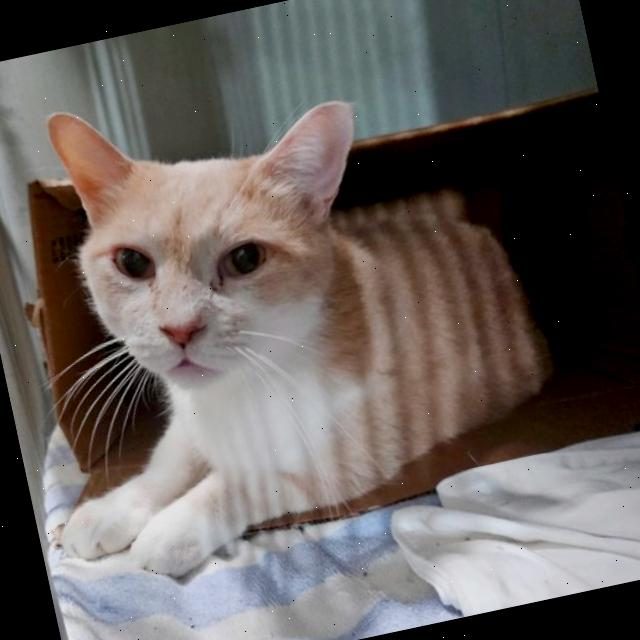domestic_short_hair_cat: (22, 24, 440, 448)
